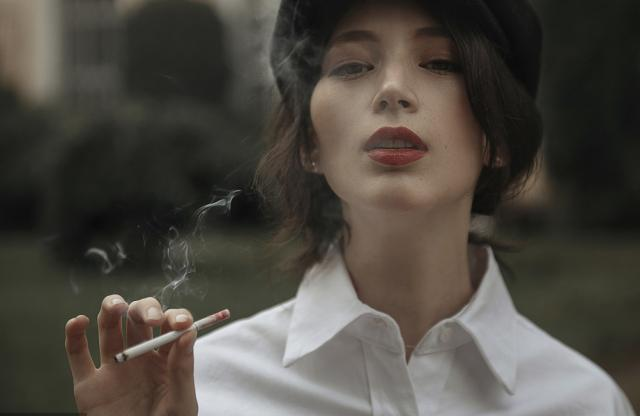smoke: (113, 308, 231, 364)
